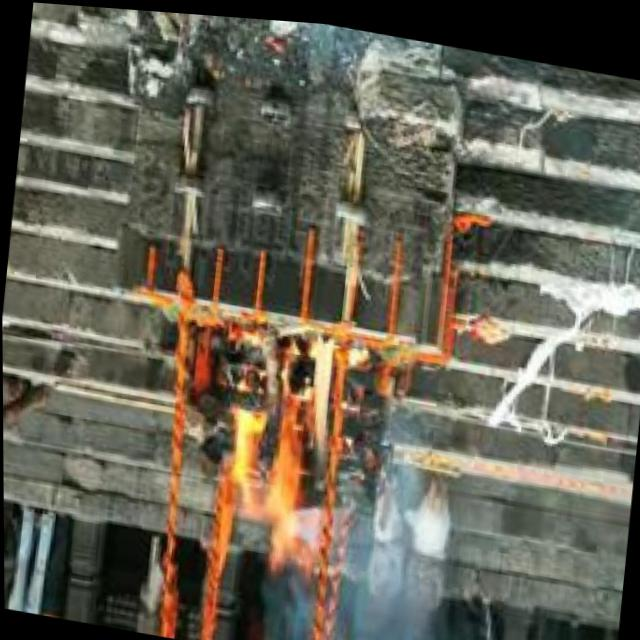Fire: (216, 313, 345, 563)
